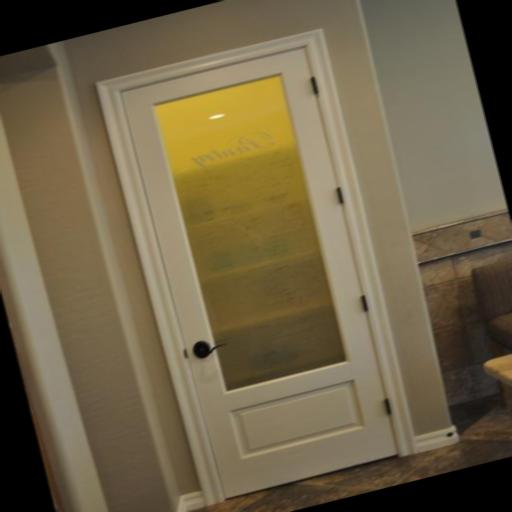Door: (94, 26, 428, 508)
